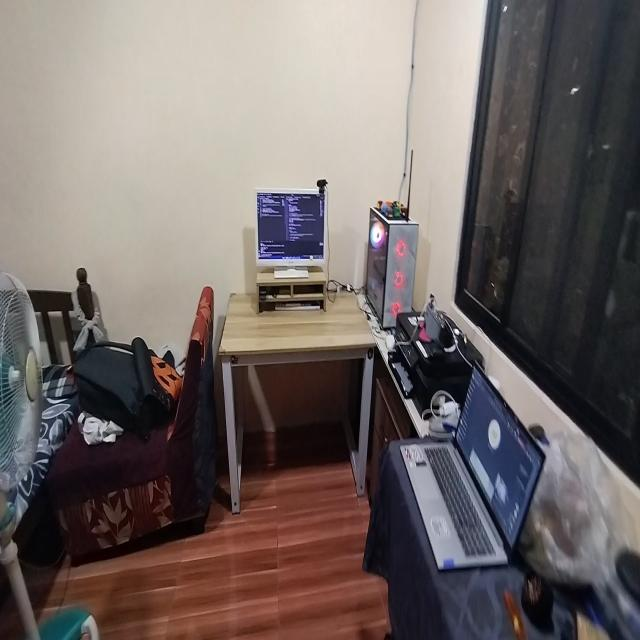table: (212, 282, 380, 520)
